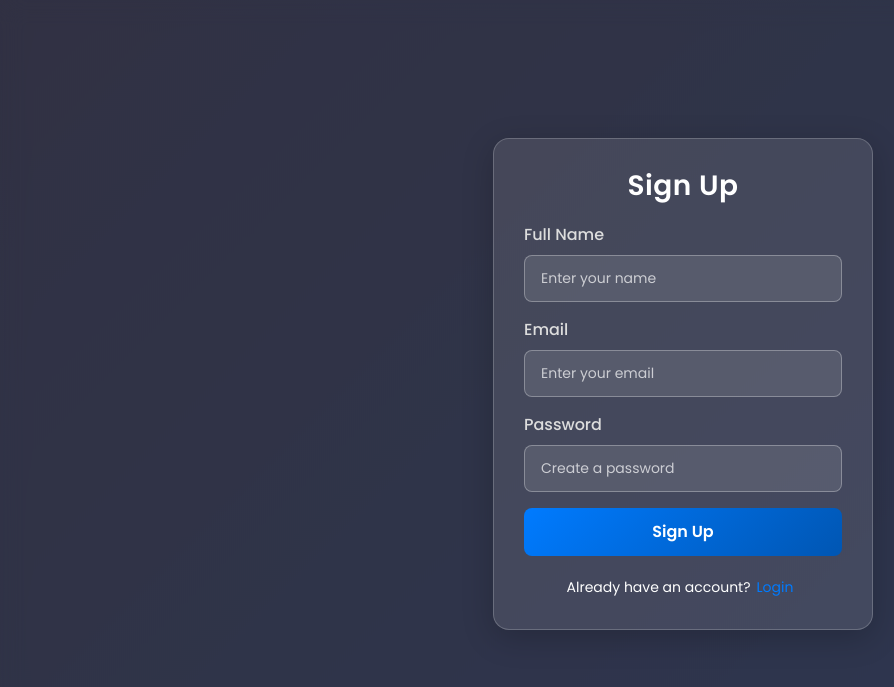
Test: Signup Component › shows error message if fields are empty
Click the button "Sign Up" at {"x": 683, "y": 532}, box [524, 508, 842, 556]
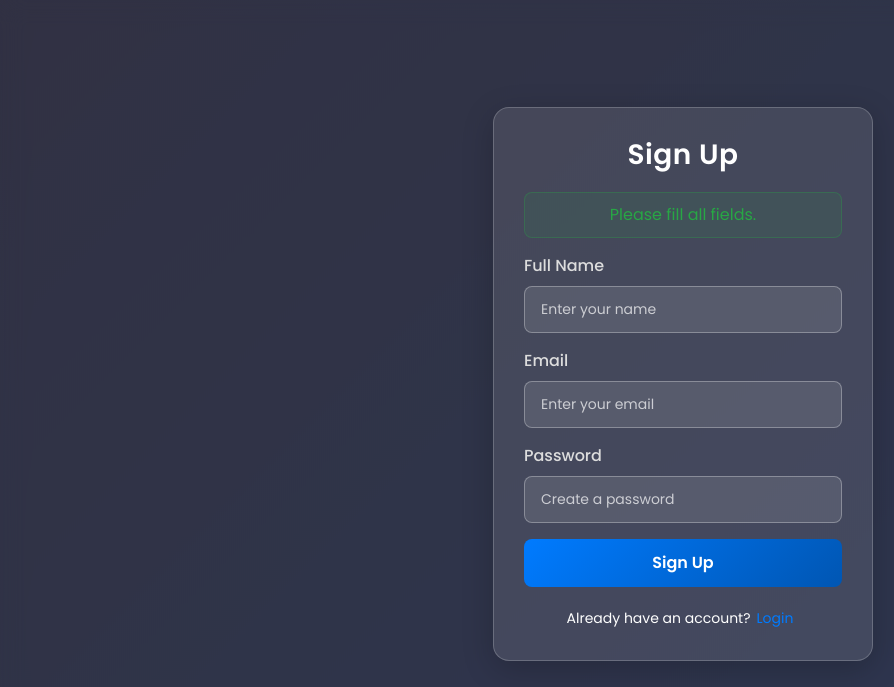
Result: the text "Please fill all fields." is shown at [524, 192, 842, 238]
